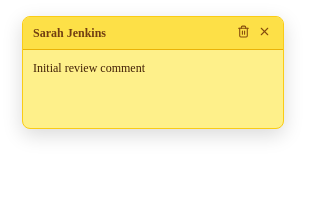
Scenario: Phase 12 UI Integration: Annotations, Signatures, and Forms › Task 12.2: StickyNotePopup and CommentsPanel › renders StickyNotePopup, allows editing comment text and triggers update
Later steps or results of the test are not shown.
Step 1. Click the text with test id "text-sticky-note-content" → x=89, y=68, box [33,61,145,75]
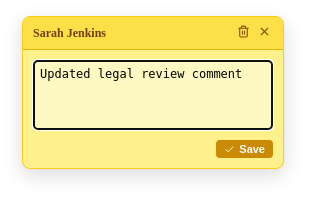
Expected: the text box with test id "textarea-sticky-note" is shown, [33,60,273,130]
